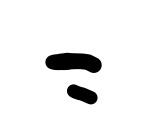eqv: (46, 53, 101, 105)
